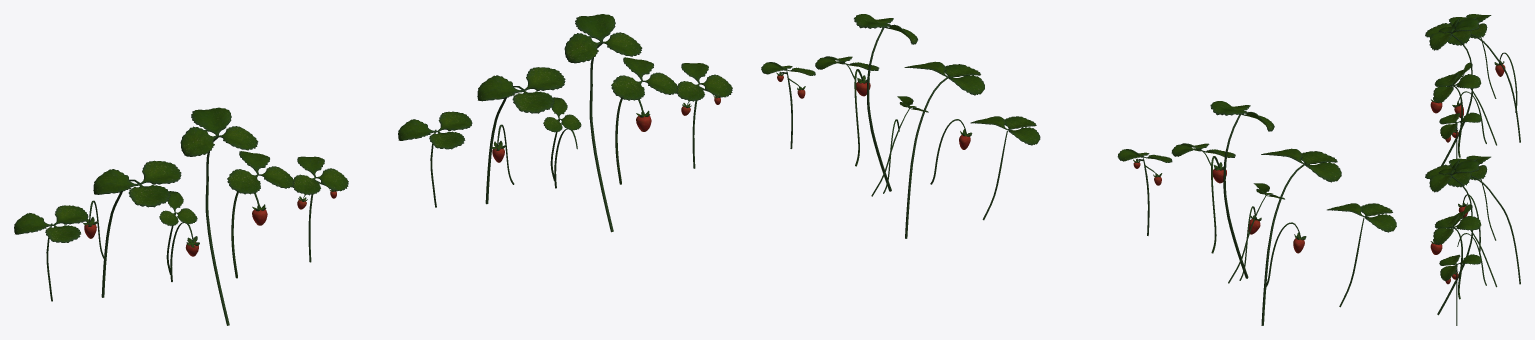
The model's file is strawberry_plants.fbx.
The picture shows the model from 3 angles, left to right: view 1: azimuth 30°, elevation 25°; view 2: azimuth 150°, elevation 25°; view 3: azimuth 270°, elevation 25°; orthographic projection. The views are drawn at different scales.
Parts seen in each view (by area): view 1: strawberry_plant_06, strawberry_plant_01, strawberry_plant_07, strawberry_plant_02, strawberry_plant_05, strawberry_plant_22, strawberry_plant_08, strawberry_plant_20, strawberry_plant_16, strawberry_plant_26, strawberry_plant_03, strawberry_plant_13 (+6 smaller); view 2: strawberry_plant_01, strawberry_plant_06, strawberry_plant_02, strawberry_plant_07, strawberry_plant_05, strawberry_plant_14, strawberry_plant_38, strawberry_plant_03; view 3: strawberry_plant_06, strawberry_plant_07, strawberry_plant_01, strawberry_plant_05, strawberry_plant_02, strawberry_plant_34, strawberry_plant_37, strawberry_plant_14, strawberry_plant_16, strawberry_plant_38, strawberry_plant_26, strawberry_plant_17 (+22 smaller).
Part boxes in pixels (x1=…): strawberry_plant_06: x1=180, y1=107, x2=258, y2=325; strawberry_plant_01: x1=93, y1=160, x2=181, y2=297; strawberry_plant_07: x1=227, y1=151, x2=294, y2=278; strawberry_plant_02: x1=14, y1=205, x2=88, y2=301; strawberry_plant_05: x1=292, y1=156, x2=348, y2=262; strawberry_plant_22: x1=543, y1=97, x2=581, y2=181; strawberry_plant_08: x1=159, y1=191, x2=197, y2=274; strawberry_plant_20: x1=564, y1=33, x2=601, y2=63; strawberry_plant_16: x1=524, y1=67, x2=565, y2=90; strawberry_plant_26: x1=575, y1=14, x2=615, y2=43; strawberry_plant_03: x1=477, y1=75, x2=523, y2=101; strawberry_plant_13: x1=512, y1=90, x2=554, y2=113; strawberry_plant_01: x1=1261, y1=148, x2=1341, y2=325; strawberry_plant_06: x1=1210, y1=101, x2=1274, y2=278; strawberry_plant_02: x1=1327, y1=203, x2=1396, y2=307; strawberry_plant_07: x1=1171, y1=143, x2=1235, y2=253; strawberry_plant_05: x1=1117, y1=149, x2=1172, y2=235; strawberry_plant_14: x1=867, y1=28, x2=891, y2=191; strawberry_plant_38: x1=905, y1=77, x2=947, y2=238; strawberry_plant_03: x1=948, y1=75, x2=984, y2=95; strawberry_plant_06: x1=1429, y1=18, x2=1479, y2=165; strawberry_plant_07: x1=1433, y1=73, x2=1481, y2=157; strawberry_plant_01: x1=1425, y1=17, x2=1520, y2=142; strawberry_plant_05: x1=1439, y1=112, x2=1481, y2=158; strawberry_plant_02: x1=1449, y1=14, x2=1496, y2=98; strawberry_plant_34: x1=1452, y1=216, x2=1481, y2=230; strawberry_plant_37: x1=1429, y1=174, x2=1452, y2=192; strawberry_plant_14: x1=1437, y1=176, x2=1472, y2=315; strawberry_plant_16: x1=1445, y1=172, x2=1471, y2=187; strawberry_plant_38: x1=1471, y1=175, x2=1520, y2=284; strawberry_plant_26: x1=1451, y1=160, x2=1479, y2=175; strawberry_plant_17: x1=1433, y1=227, x2=1453, y2=244.
Bounding box in the file's own units: 116 × 31.67 × 18.33.
1 material, 1 textured.
